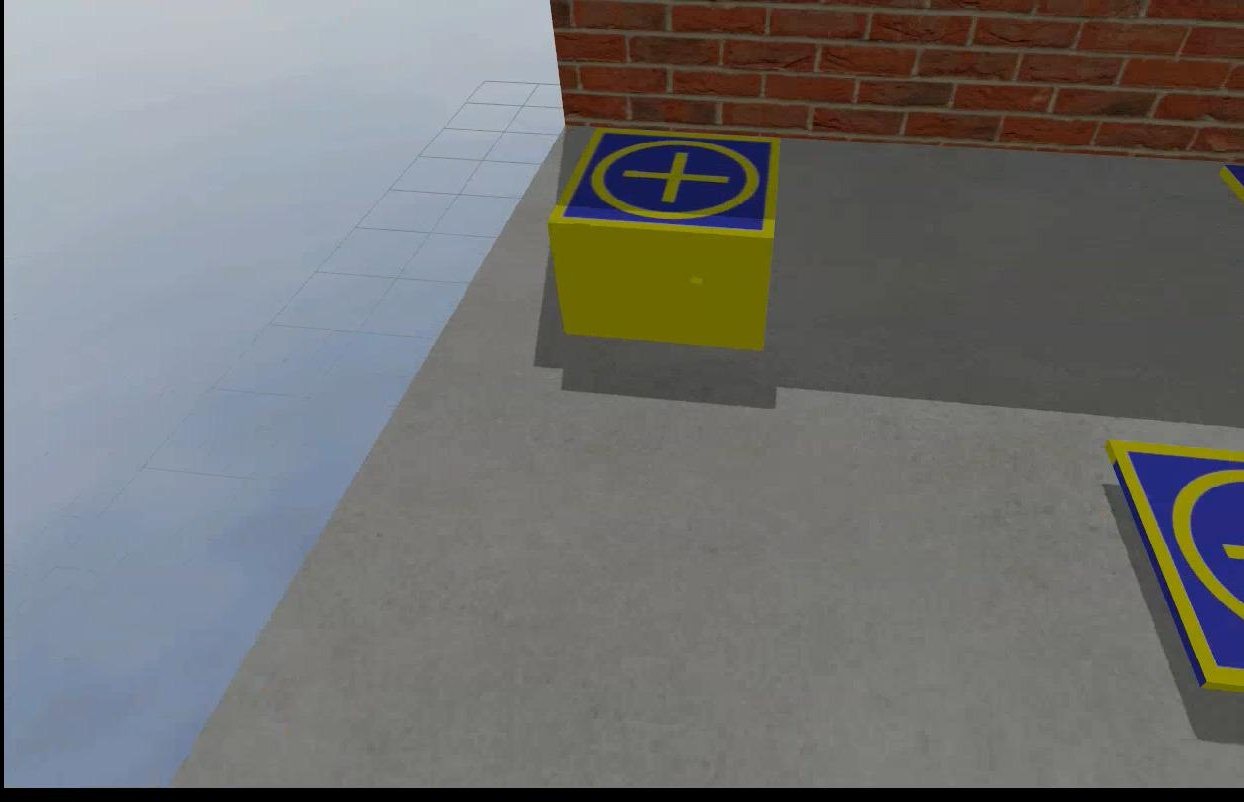small_base: (1104, 441, 1242, 695), (545, 129, 781, 247)
